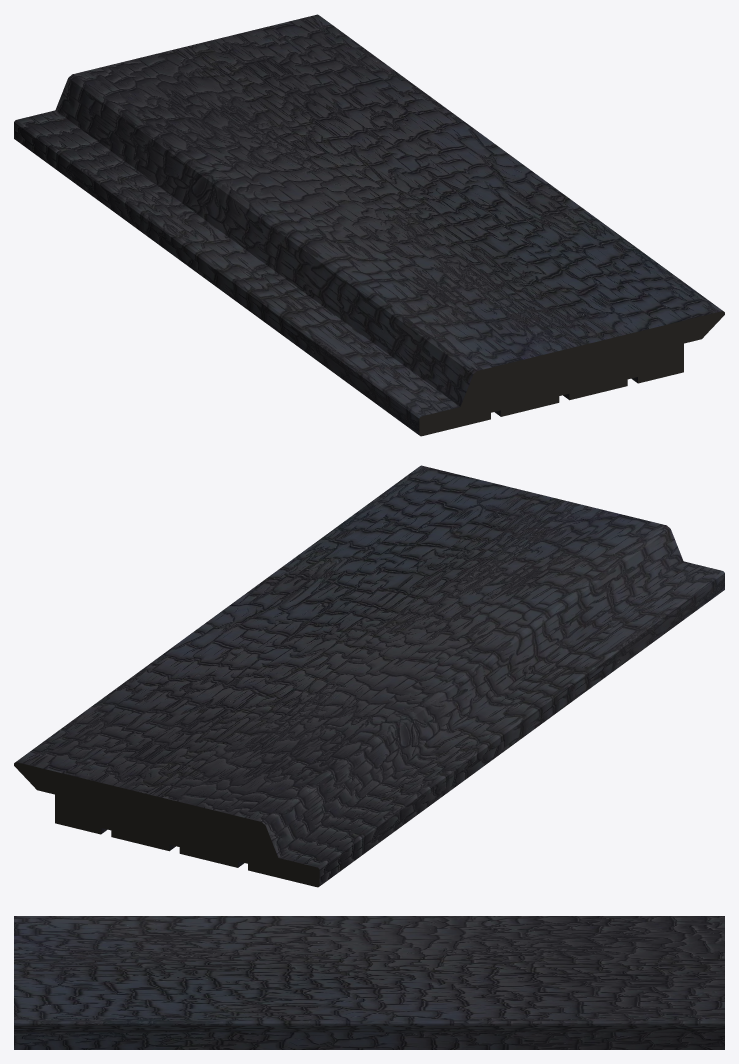
Rendered from larch-facade-half-tenon-45-carbon.glb.
The picture shows the model from 3 angles, top to bottom: view 1: azimuth 30°, elevation 25°; view 2: azimuth 150°, elevation 25°; view 3: azimuth 270°, elevation 25°; orthographic projection. The views are drawn at different scales.
Visible parts, largest first — view 1: Pusė_Špunto_45; view 2: Pusė_Špunto_45; view 3: Pusė_Špunto_45.
Boxes of the visible parts, box(x1,y1,x2,y2) form: Pusė_Špunto_45: box(14, 14, 724, 436); Pusė_Špunto_45: box(14, 465, 724, 887); Pusė_Špunto_45: box(14, 916, 724, 1049).
Size of the model in its own units: 0.0723 by 0.0117 by 0.166.
3 materials, 1 textured.
